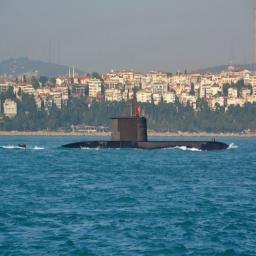submarine: (19, 89, 231, 150)
